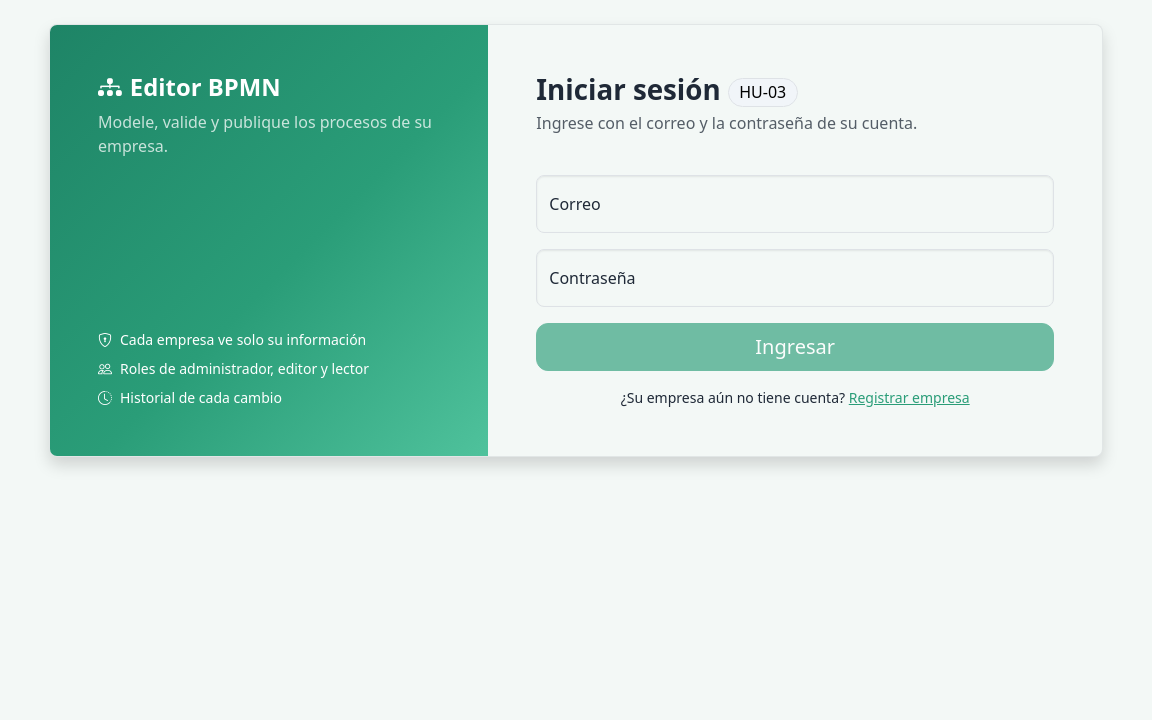
Scenario: LoginComponent (HU-03) › muestra el mensaje del backend con credenciales inválidas y no guarda sesión
In the field labelled "Correo": [795, 204] box [536,175,1054,233], type "admin@demo.com"
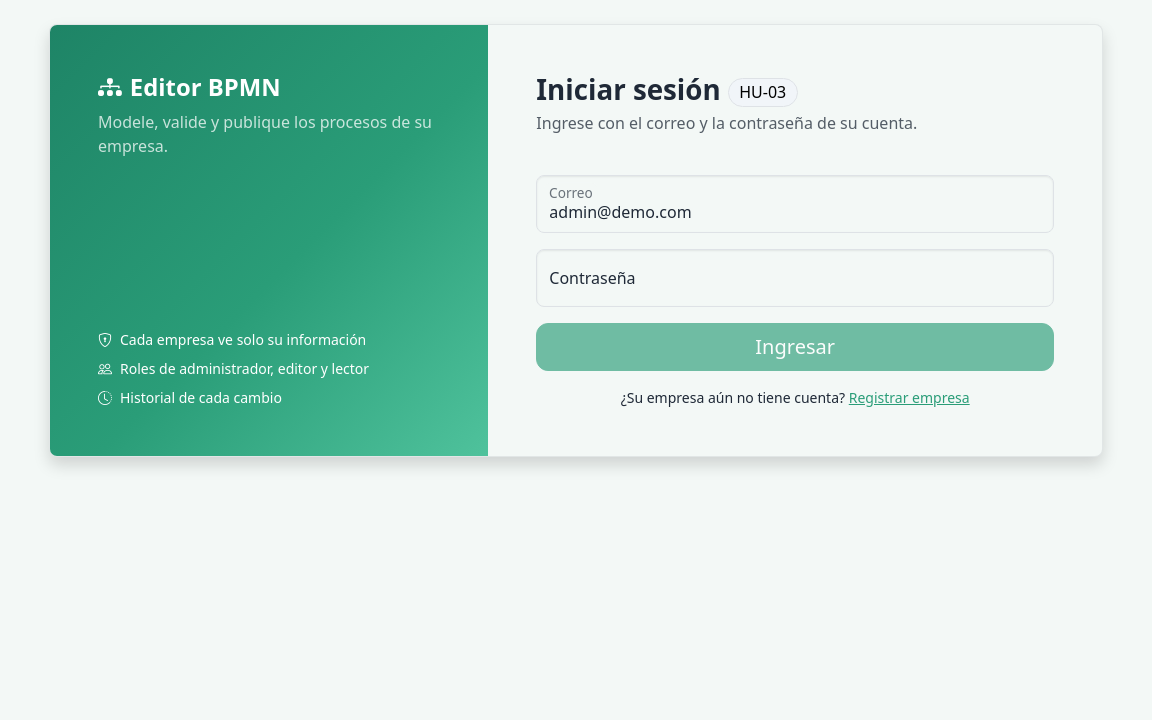
In the password field with placeholder "Contraseña": [795, 278] box [536,249,1054,307], type "mala"
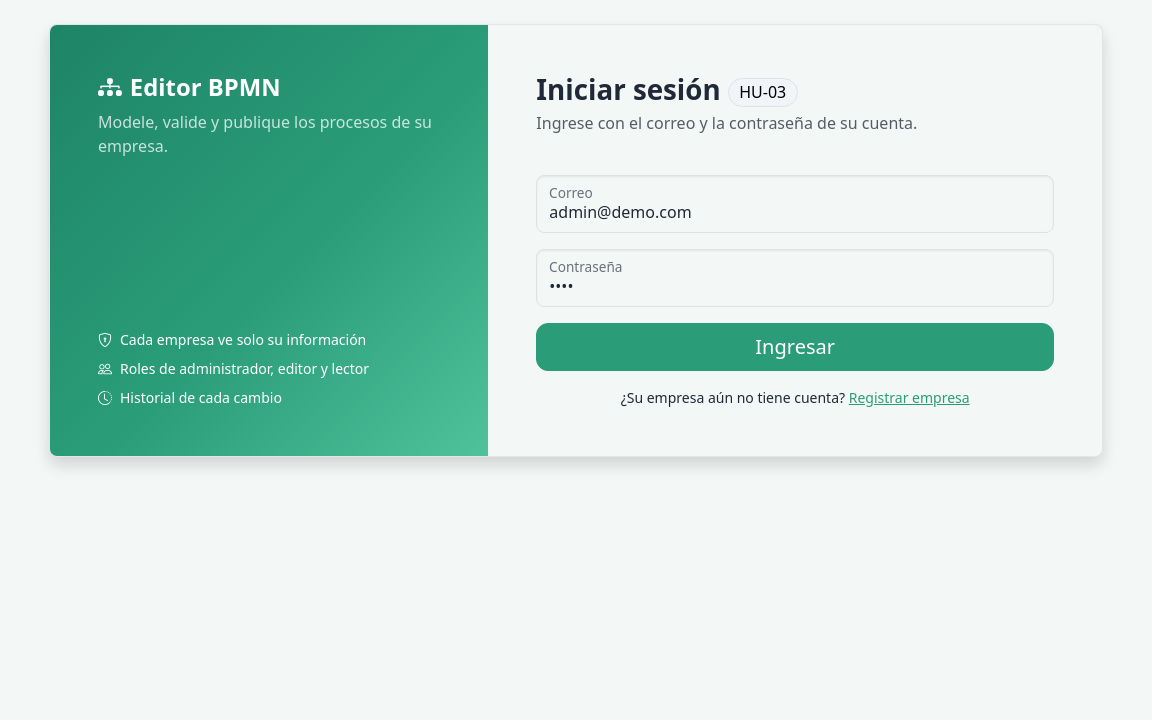
Click the button with id "loginBtn": [795, 347] box [536,323,1054,371]
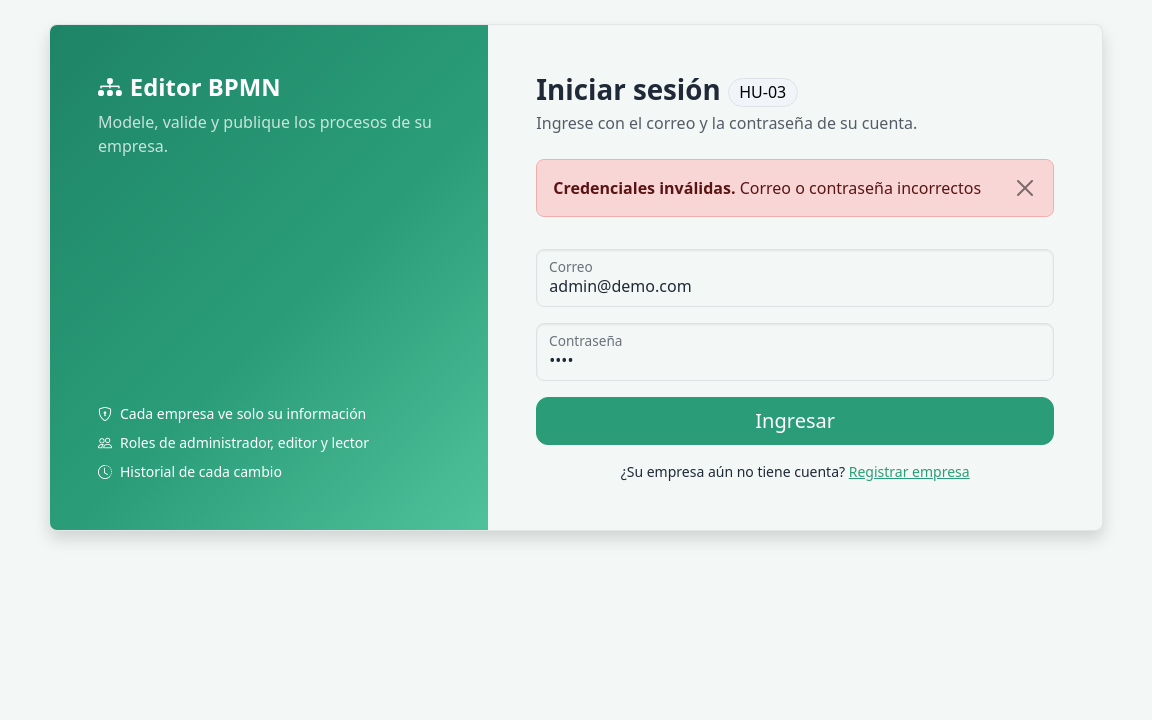
Expected: the button with id "loginBtn" is enabled, [536,397,1054,445]
Expected: the text "Correo o contraseña incorrectos" is shown, [736,177,981,199]
